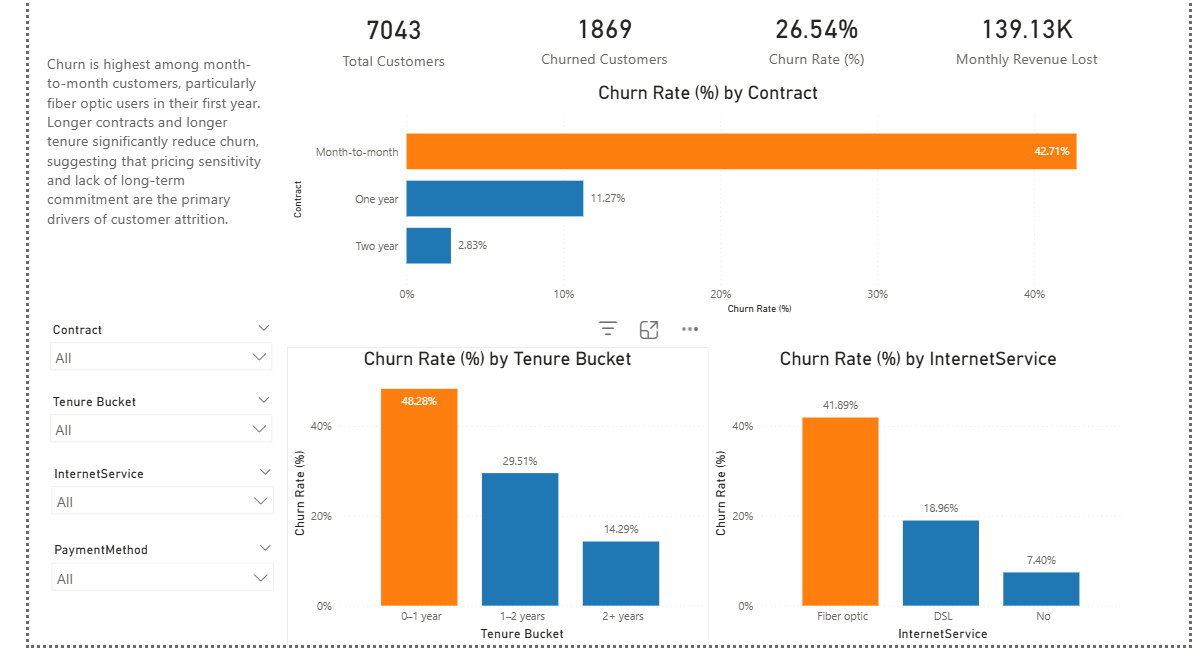

Layout of this report page (visuals, bound fields, positions):
{"tool":"powerbi","page":{"name":"Page 1","canvas":[1280,720],"ordinal":0},"visuals":[{"type":"card","fields":{"Values":["telecom_churn.Total Customers"]},"box":[285,1.7,235,95],"z":0},{"type":"card","fields":{"Values":["telecom_churn.Churned Customers"]},"box":[520,0,230,95],"z":1000},{"type":"card","fields":{"Values":["telecom_churn.Monthly Revenue Lost"]},"box":[988.3,0,225,95],"z":2000},{"type":"card","fields":{"Values":["telecom_churn.Churn Rate (%)"]},"box":[750,0,238.3,95],"z":3000},{"type":"clusteredBarChart","fields":{"Y":["telecom_churn.Churn Rate (%)"],"Category":["telecom_churn.Contract"]},"box":[286.7,98.3,926.7,261.7],"z":4000},{"type":"slicer","fields":{"Values":["telecom_churn.InternetService"]},"box":[15,516.1,265,70],"z":5000},{"type":"columnChart","fields":{"Category":["telecom_churn.Tenure Bucket"],"Y":["telecom_churn.Churn Rate (%)"]},"box":[285,391.7,465,328.3],"z":6000},{"type":"slicer","fields":{"Values":["telecom_churn.PaymentMethod"]},"box":[15,601.1,265,70],"z":7000},{"type":"slicer","fields":{"Values":["telecom_churn.Tenure Bucket"]},"box":[13.3,437.8,265,70],"z":8000},{"type":"slicer","fields":{"Values":["telecom_churn.Contract"]},"box":[13.3,357.8,265,68.3],"z":9000},{"type":"clusteredColumnChart","fields":{"Y":["telecom_churn.Churn Rate (%)"],"Category":["telecom_churn.InternetService"]},"box":[750,391.7,463.3,328.3],"z":10000},{"type":"textbox","box":[13,98,265,260],"z":10001},{"type":"textbox","box":[15,61.7,248.3,236.7],"z":10002}]}

Visuals, with their boxes on the page's 1280x720 design canvas (x1, y1, x2, y2). These are canvas units, not pixel positions in the 1204x655 screenshot, which may show the page scaled, cropped or inside an application window:
card - telecom_churn.Total Customers: select_region(285, 2, 520, 97)
card - telecom_churn.Churned Customers: select_region(520, 0, 750, 95)
card - telecom_churn.Monthly Revenue Lost: select_region(988, 0, 1213, 95)
card - telecom_churn.Churn Rate (%): select_region(750, 0, 988, 95)
clusteredBarChart - telecom_churn.Churn Rate (%) x telecom_churn.Contract: select_region(287, 98, 1213, 360)
slicer - telecom_churn.InternetService: select_region(15, 516, 280, 586)
columnChart - telecom_churn.Tenure Bucket x telecom_churn.Churn Rate (%): select_region(285, 392, 750, 720)
slicer - telecom_churn.PaymentMethod: select_region(15, 601, 280, 671)
slicer - telecom_churn.Tenure Bucket: select_region(13, 438, 278, 508)
slicer - telecom_churn.Contract: select_region(13, 358, 278, 426)
clusteredColumnChart - telecom_churn.Churn Rate (%) x telecom_churn.InternetService: select_region(750, 392, 1213, 720)
textbox: select_region(13, 98, 278, 358)
textbox: select_region(15, 62, 263, 298)
